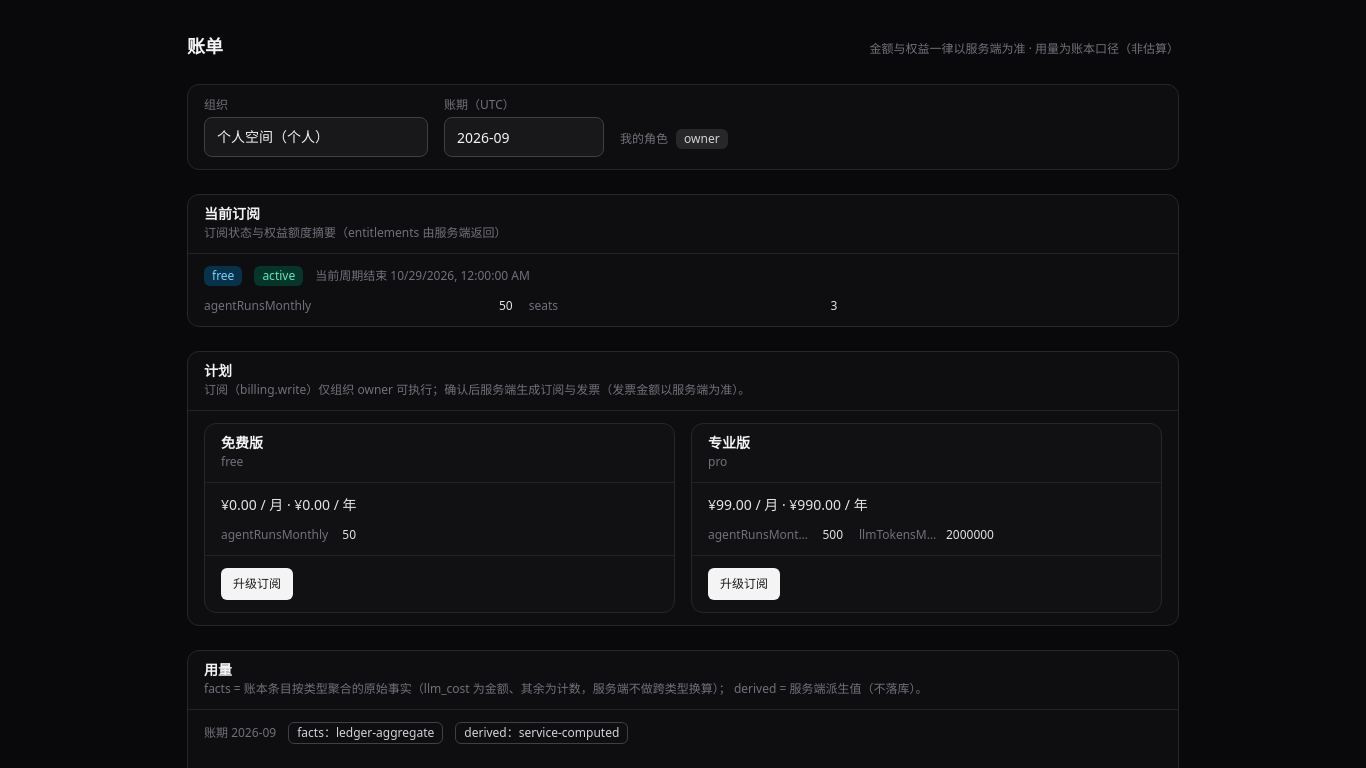
Test case: /billing 订阅动作 › 订阅被服务端拒绝（403）：如实呈现 code 与 message
Expected: the heading "计划" is shown, [204,361,232,380]
Click the button with aria-label "订阅 专业版": {"x": 744, "y": 584} [708,568,780,600]
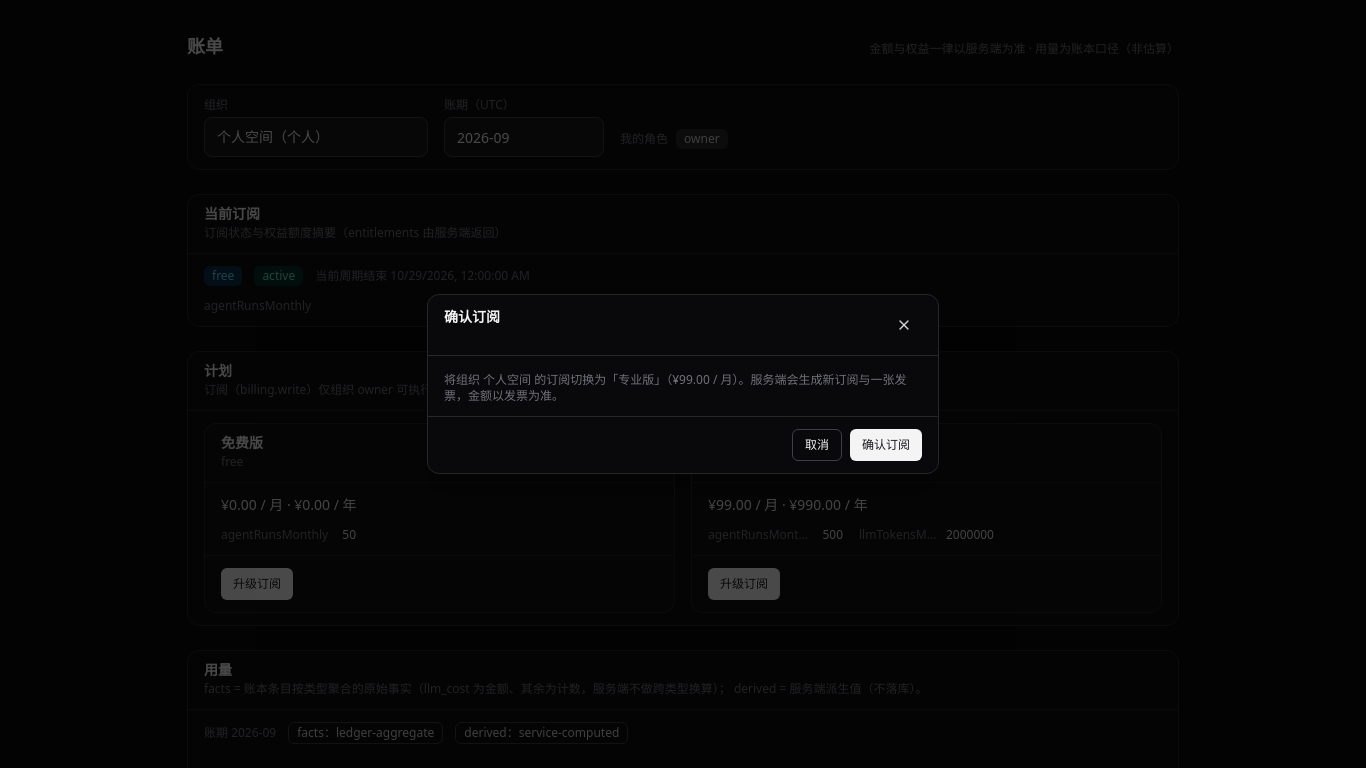
Click the button "确认订阅": {"x": 886, "y": 445} [850,429,922,461]
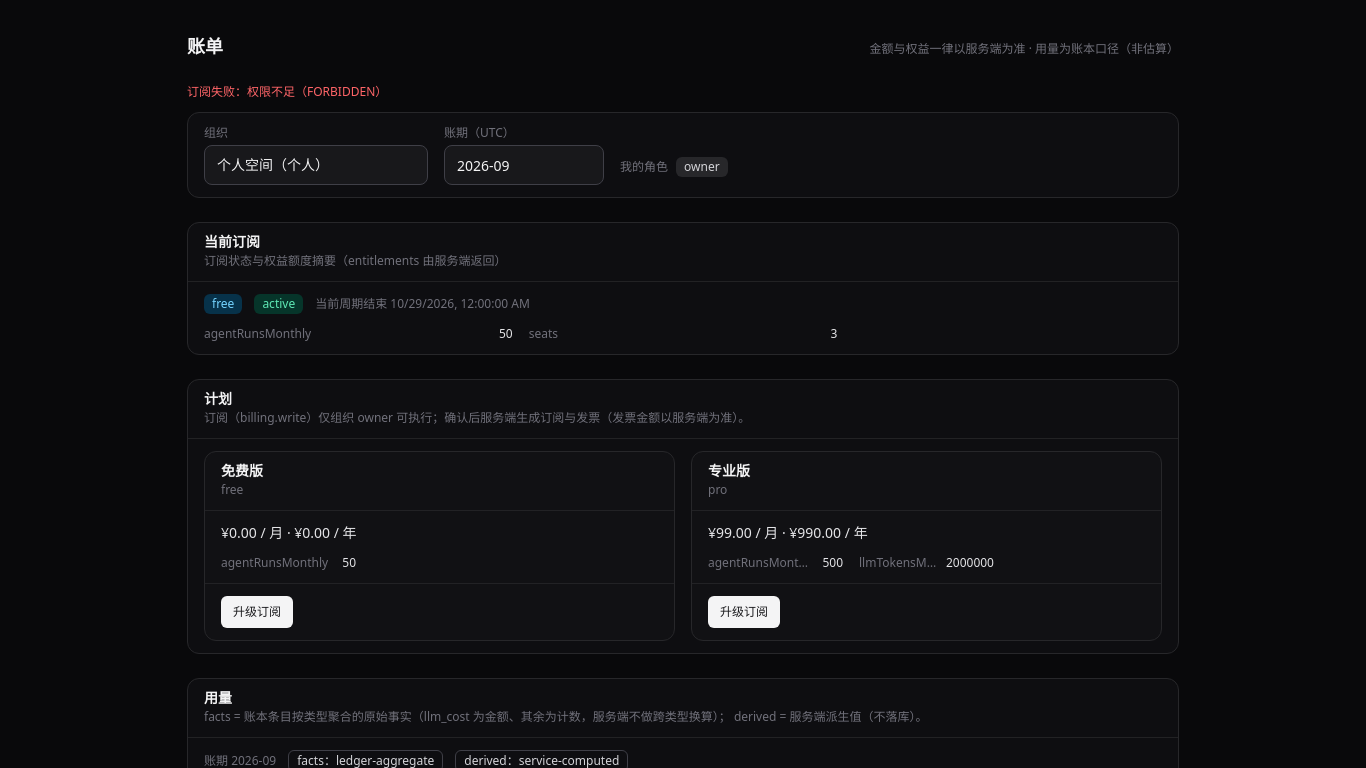
Now the message reads "订阅失败：权限不足（FORBIDDEN）", box [187,83,387,100]
